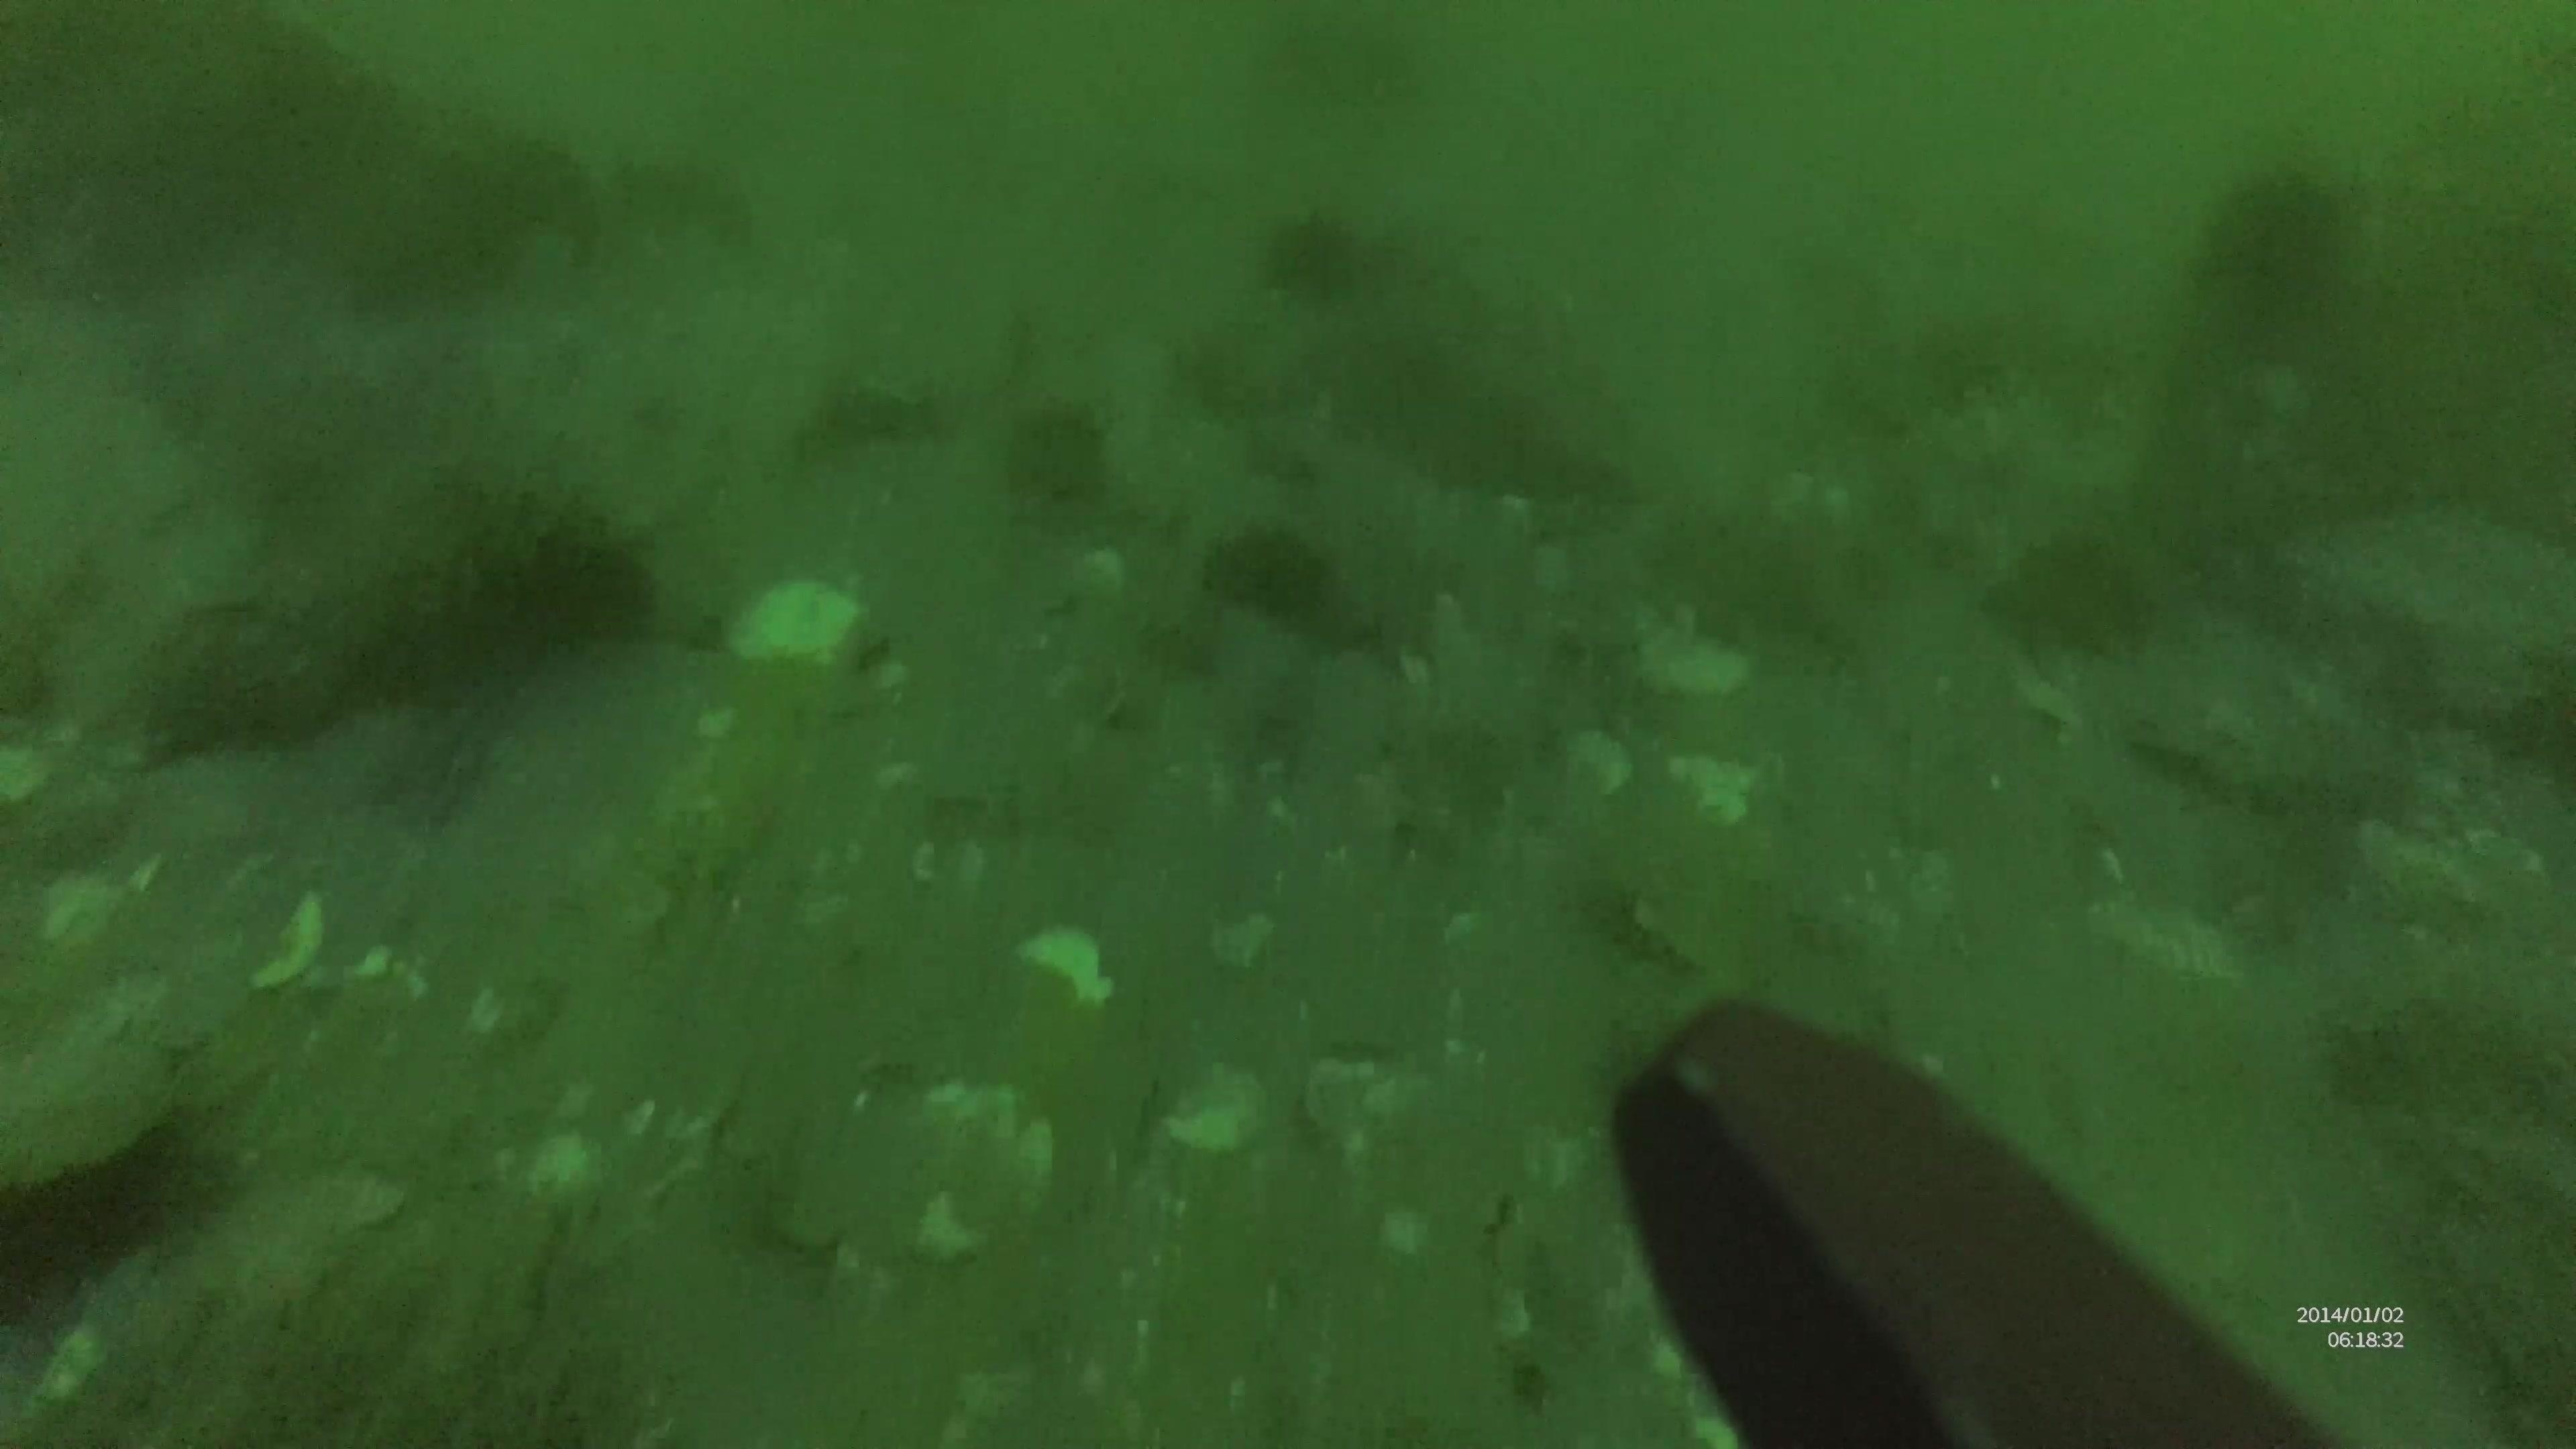echinus: (437, 499, 658, 676), (2189, 157, 2365, 352), (1253, 203, 1380, 310), (1207, 525, 1336, 621)
